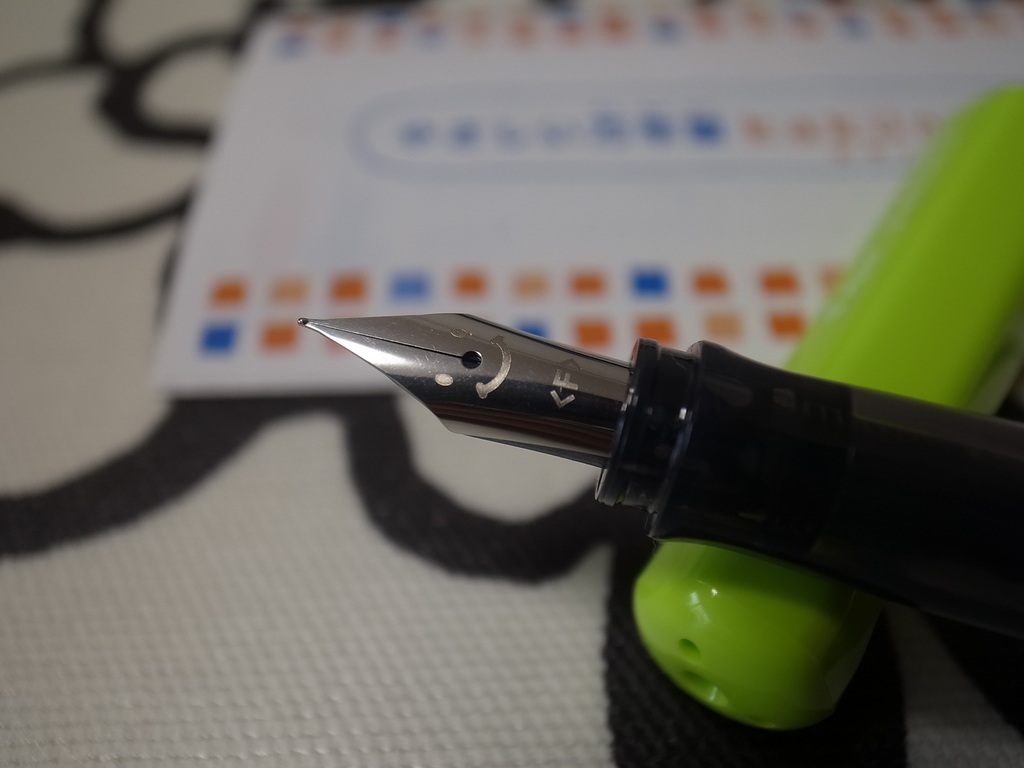Pen: (297, 319, 1023, 616)
